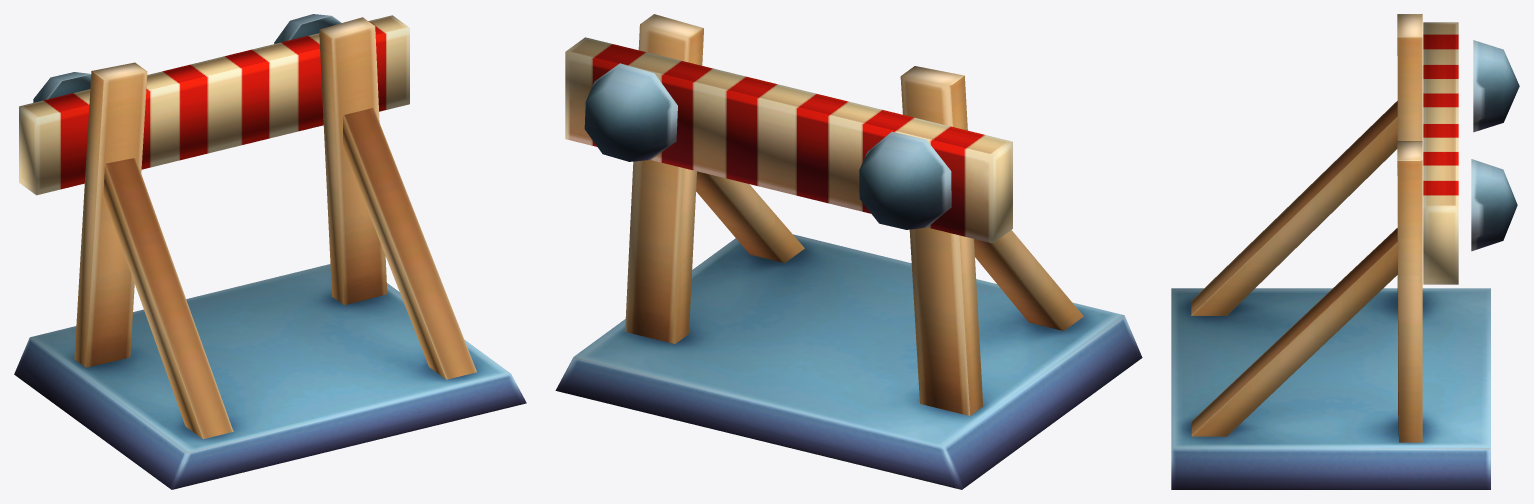
File: Standart.fbx
3 views of the same model, side by side, from view 1: azimuth 30°, elevation 25°; view 2: azimuth 150°, elevation 25°; view 3: azimuth 270°, elevation 25° (orthographic). The views are drawn at different scales.
Visible parts, largest first — view 1: blocker_standard_obj; view 2: blocker_standard_obj; view 3: blocker_standard_obj.
Boxes of the visible parts, x1=… form: blocker_standard_obj: x1=14, y1=14, x2=526, y2=489; blocker_standard_obj: x1=555, y1=14, x2=1142, y2=489; blocker_standard_obj: x1=1171, y1=14, x2=1519, y2=489.
Bounding box in the file's own units: 1955 × 1588 × 1559.
Materials: 1 (1 with a texture image).
